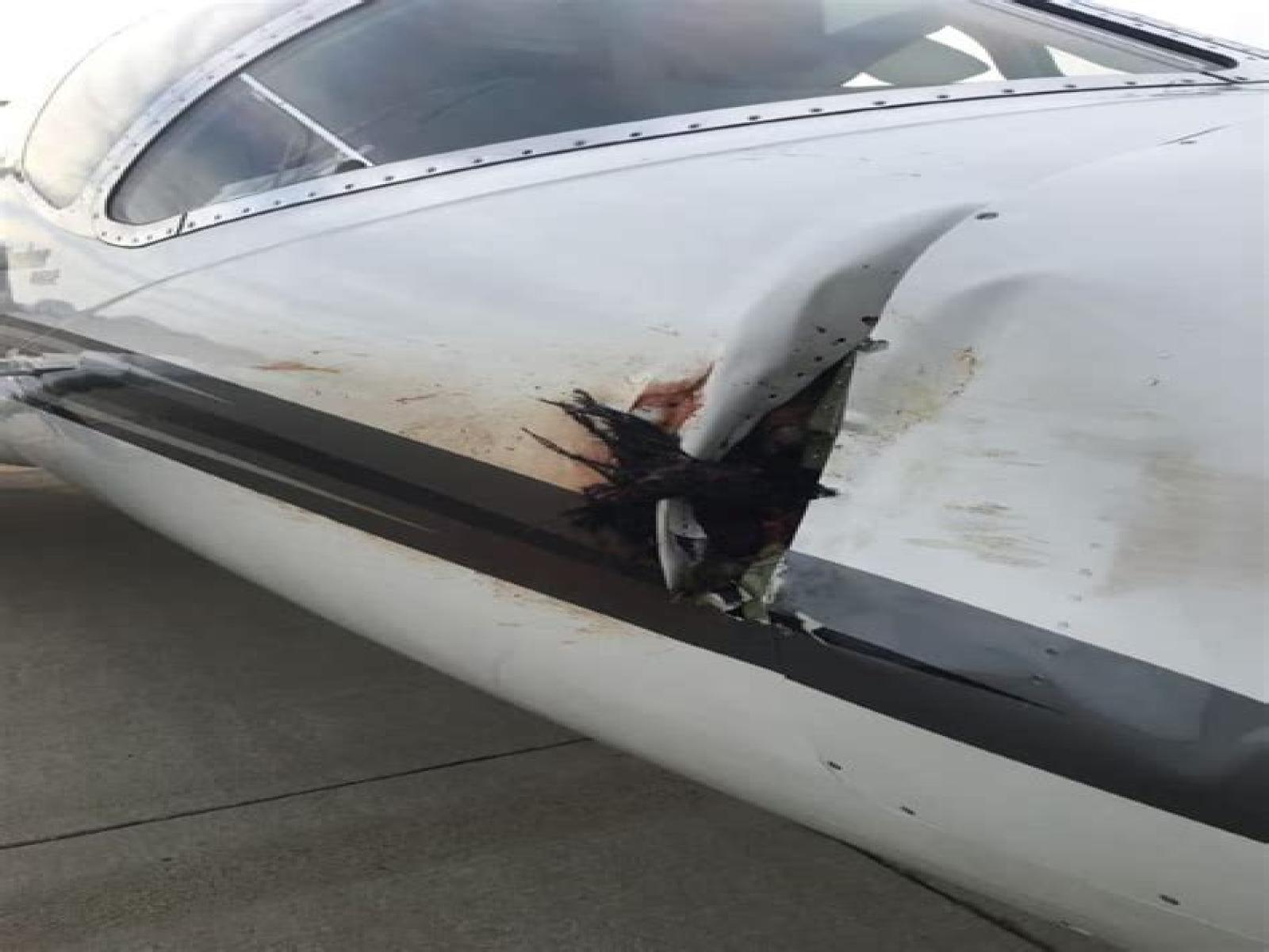Fuselage_damage: (527, 356, 854, 631), (685, 205, 975, 459)
